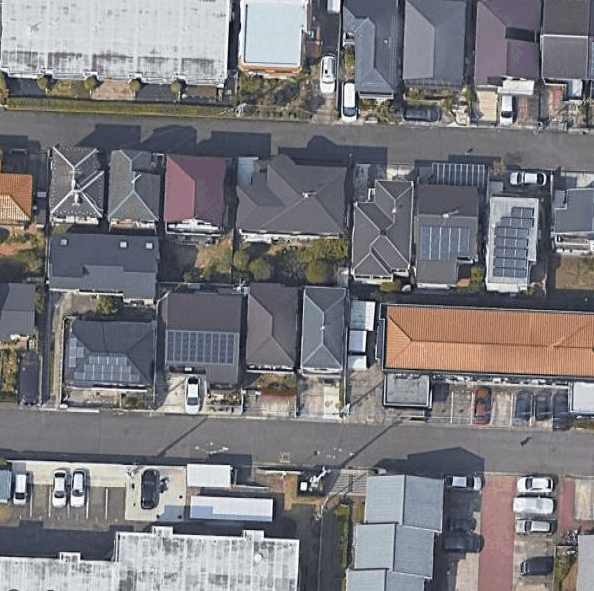flatroof: (0, 0, 224, 87), (114, 524, 302, 590), (231, 0, 317, 74)
solarpanel_flat: (486, 197, 537, 288)
